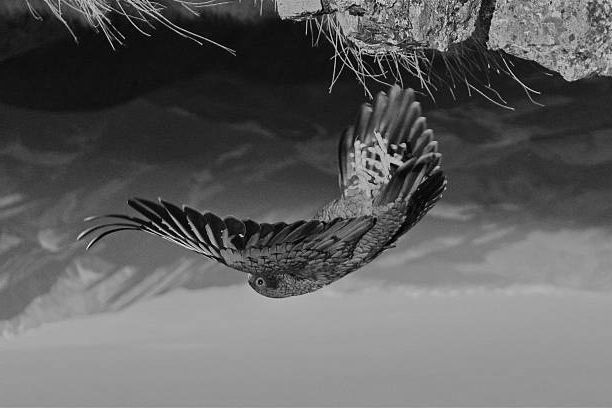Bird: (74, 79, 448, 300)
